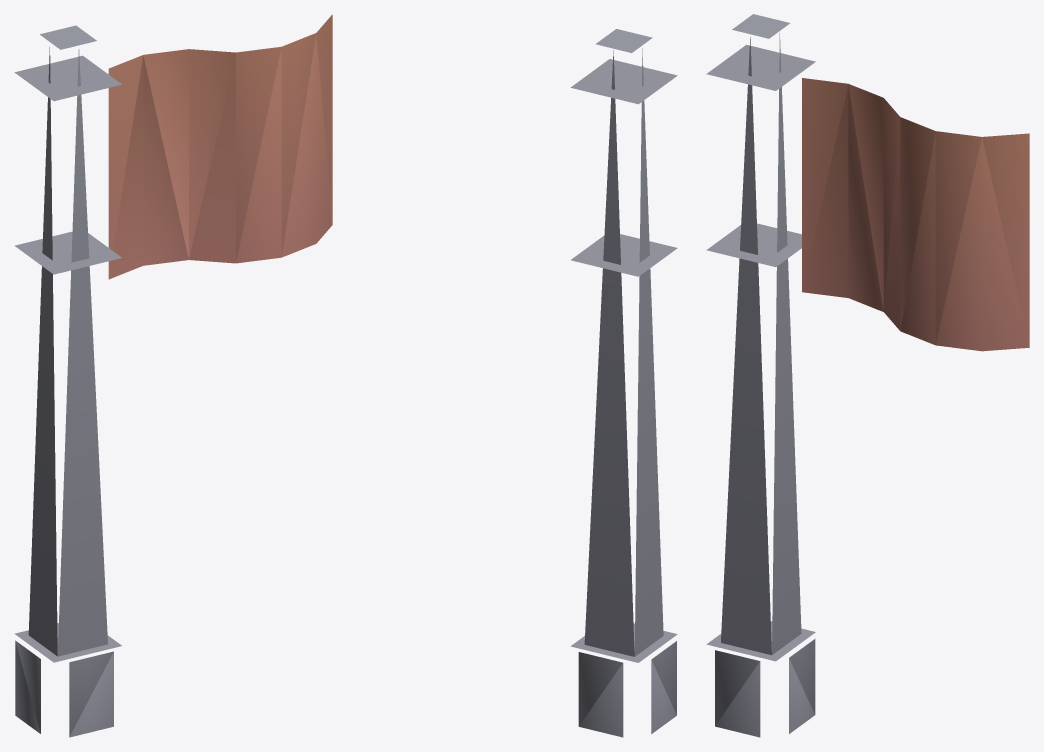
The model's file is goal_flag.glb.
3 views of the same model, side by side, from view 1: azimuth 30°, elevation 25°; view 2: azimuth 150°, elevation 25°; view 3: azimuth 330°, elevation 25° (orthographic). The views are drawn at different scales.
Visible parts, largest first — view 1: goal_flag; view 2: goal_flag; view 3: goal_flag.
Boxes of the visible parts, x1,y1,x2,y2 form: goal_flag: (14,14,332,737); goal_flag: (570,29,677,737); goal_flag: (706,14,1029,737).
Bounding box in the file's own units: 0.4235 × 0.9003 × 0.112.
